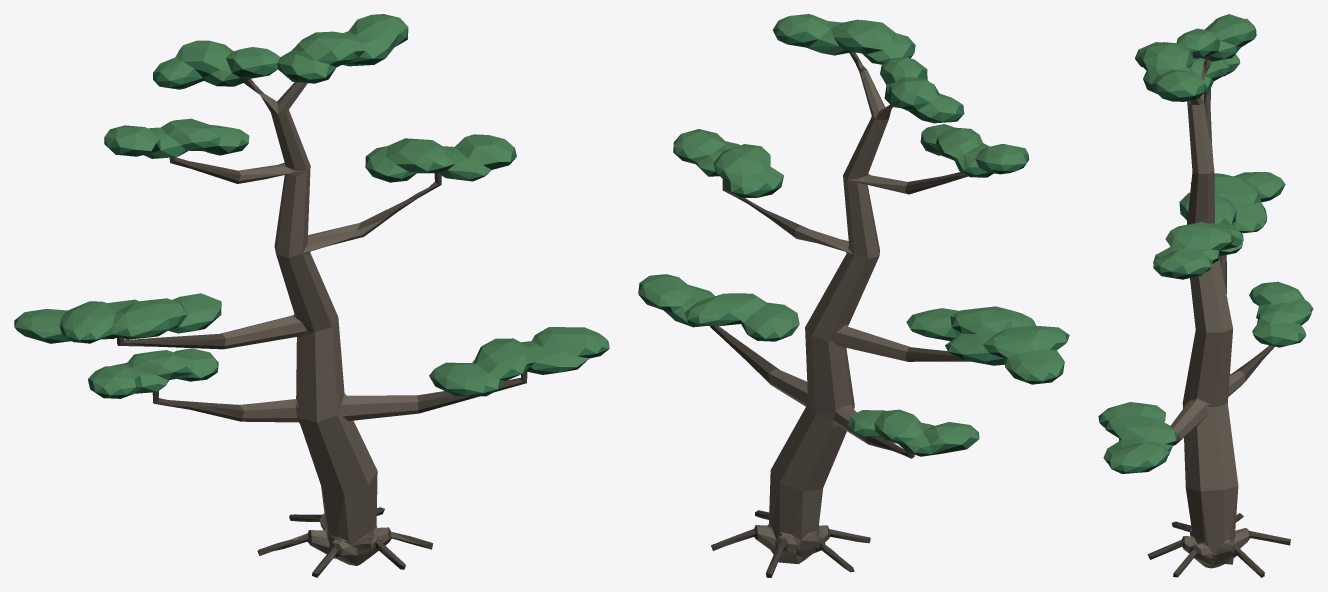
The model's file is ancient-pine-v1-lod1.glb.
The picture shows the model from 3 angles, left to right: view 1: azimuth 30°, elevation 25°; view 2: azimuth 150°, elevation 25°; view 3: azimuth 270°, elevation 25°; orthographic projection. The views are drawn at different scales.
Visible parts, largest first — view 1: n12.005, n8.005, n11.005, n9.005, n10.005; view 2: n12.005, n8.005, n11.005, n9.005, n10.005; view 3: n8.005, n12.005, n11.005, n9.005, n10.005.
Part boxes in pixels (<box>): n12.005: <box>15,14,609,395</box>; n8.005: <box>221,81,419,565</box>; n11.005: <box>14,22,609,395</box>; n9.005: <box>117,79,527,577</box>; n10.005: <box>15,38,608,398</box>; n12.005: <box>638,14,1068,452</box>; n8.005: <box>756,61,909,564</box>; n11.005: <box>638,28,1069,453</box>; n9.005: <box>710,52,969,577</box>; n10.005: <box>647,35,1066,456</box>; n8.005: <box>1170,60,1249,568</box>; n12.005: <box>1099,14,1313,468</box>; n11.005: <box>1098,29,1313,472</box>; n9.005: <box>1147,59,1290,577</box>; n10.005: <box>1104,39,1307,473</box>.
Size of the model in its own units: 5.26 by 5.43 by 2.13.
